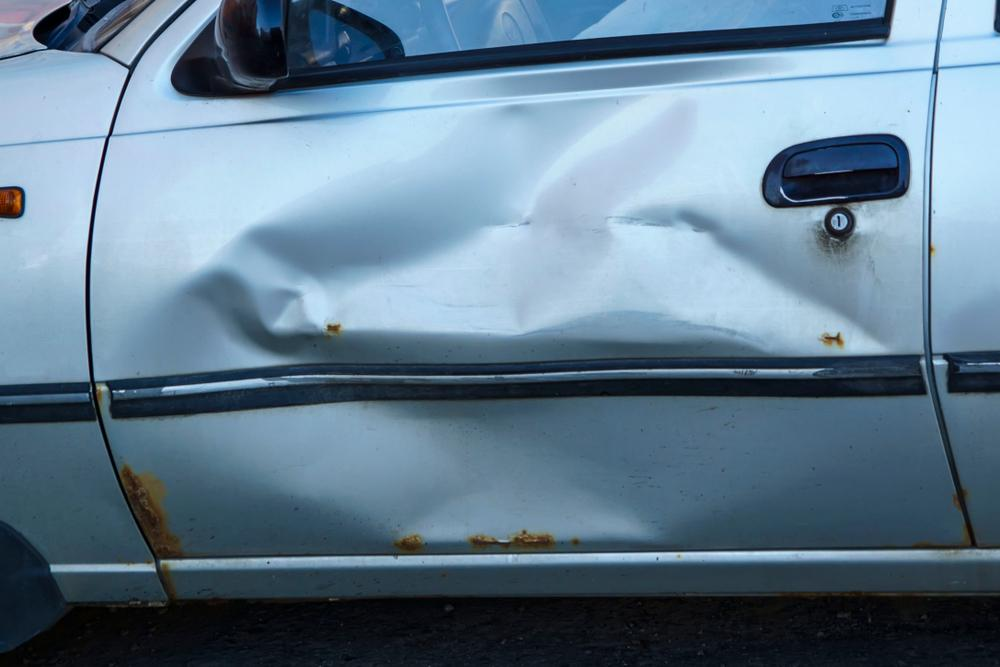dent: (143, 93, 871, 547)
